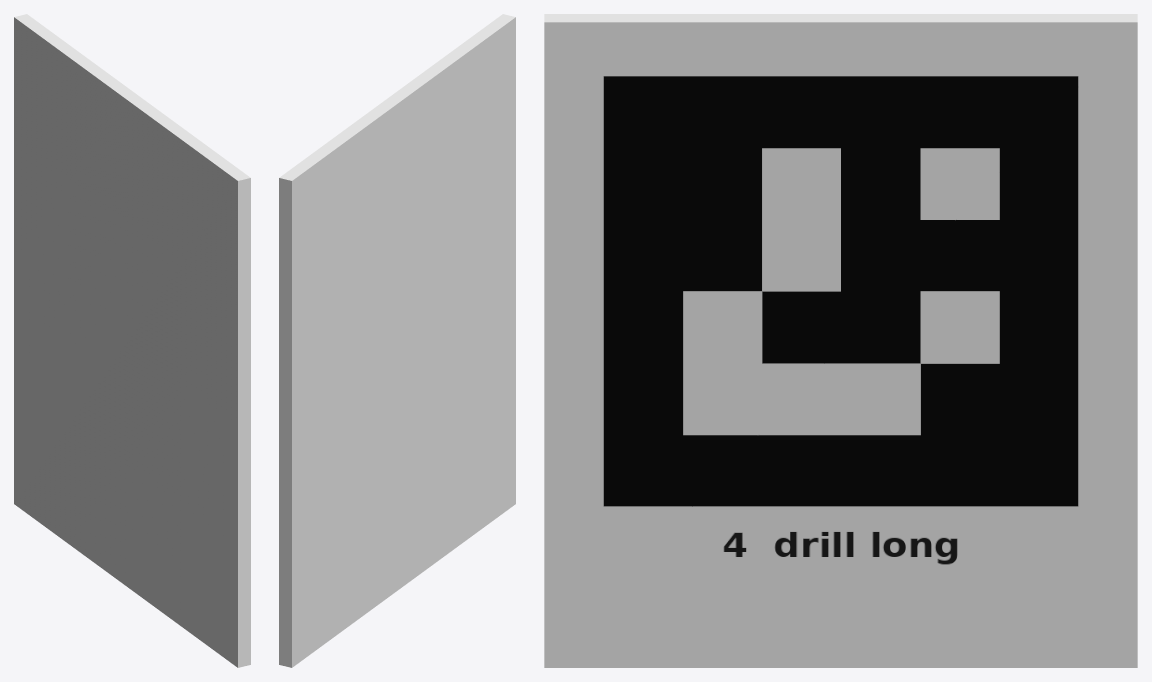
The model's file is tag_drill_long.dae.
The picture shows the model from 3 angles, left to right: view 1: azimuth 30°, elevation 25°; view 2: azimuth 150°, elevation 25°; view 3: azimuth 270°, elevation 25°; orthographic projection. The views are drawn at different scales.
Visible parts, largest first — view 1: tag_drill_long; view 2: tag_drill_long; view 3: tag_drill_long.
Boxes of the visible parts, left/top/right/bottom form: tag_drill_long: left=14, top=14, right=250, bottom=667; tag_drill_long: left=279, top=14, right=515, bottom=667; tag_drill_long: left=544, top=14, right=1137, bottom=667.
Bounding box in the file's own units: 0.01 × 0.3 × 0.36.
1 material, 1 textured.
